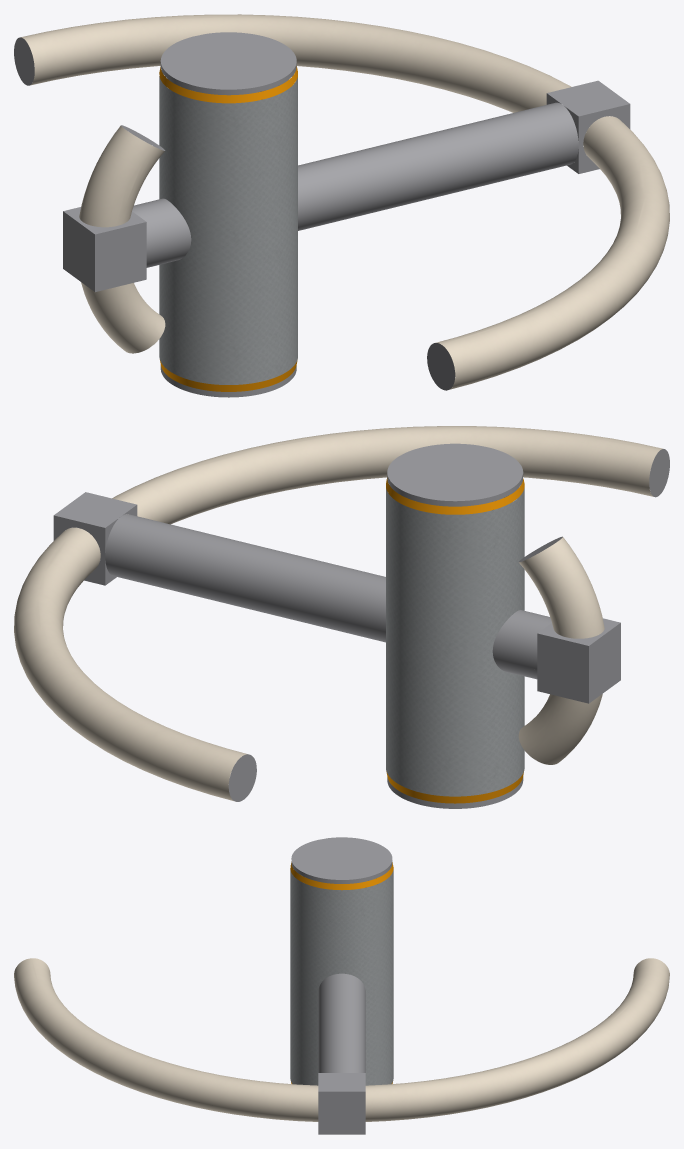
File: centrifuge.glb
3 views of the same model, one above another, from view 1: azimuth 30°, elevation 25°; view 2: azimuth 150°, elevation 25°; view 3: azimuth 270°, elevation 25° (orthographic). The views are drawn at different scales.
Bounding box in the file's own units: 0.1625 × 0.0893 × 0.232.
5 materials, 2 textured.
